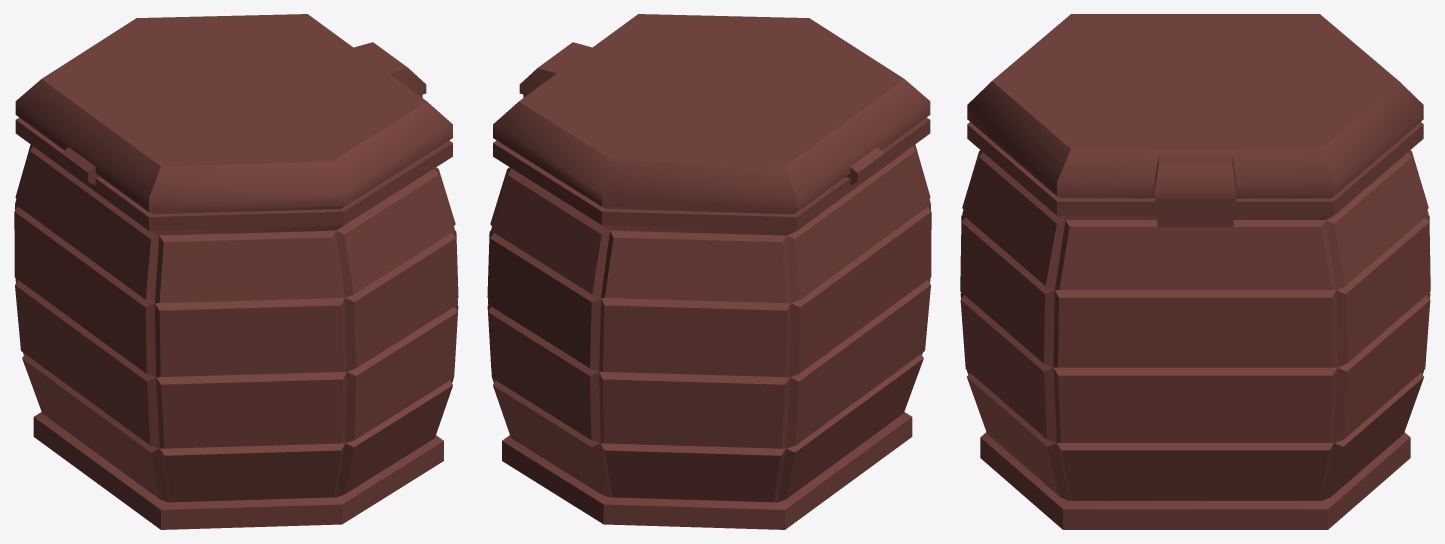
File: Compost_Chico.fbx
3 views of the same model, side by side, from view 1: azimuth 30°, elevation 25°; view 2: azimuth 150°, elevation 25°; view 3: azimuth 270°, elevation 25° (orthographic). The views are drawn at different scales.
Parts seen in each view (by area): view 1: Compost_Chico; view 2: Compost_Chico; view 3: Compost_Chico.
Part boxes in pixels (left/top/right/bottom): Compost_Chico: left=14, top=14, right=458, bottom=529; Compost_Chico: left=487, top=14, right=931, bottom=529; Compost_Chico: left=960, top=14, right=1430, bottom=529.
Bounding box in the file's own units: 153 × 159 × 180.
